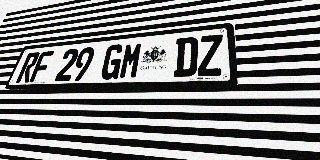2: (54, 48, 80, 81)
9: (70, 46, 96, 81)
D: (173, 36, 198, 77)
F: (29, 51, 54, 82)
G: (99, 44, 125, 80)
M: (118, 42, 144, 79)
R: (15, 52, 41, 83)
Z: (198, 34, 223, 76)
